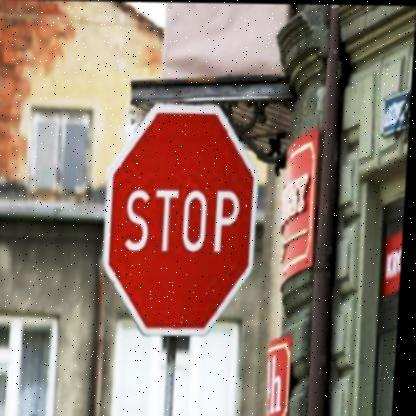Stop Sign: (98, 90, 268, 336)
